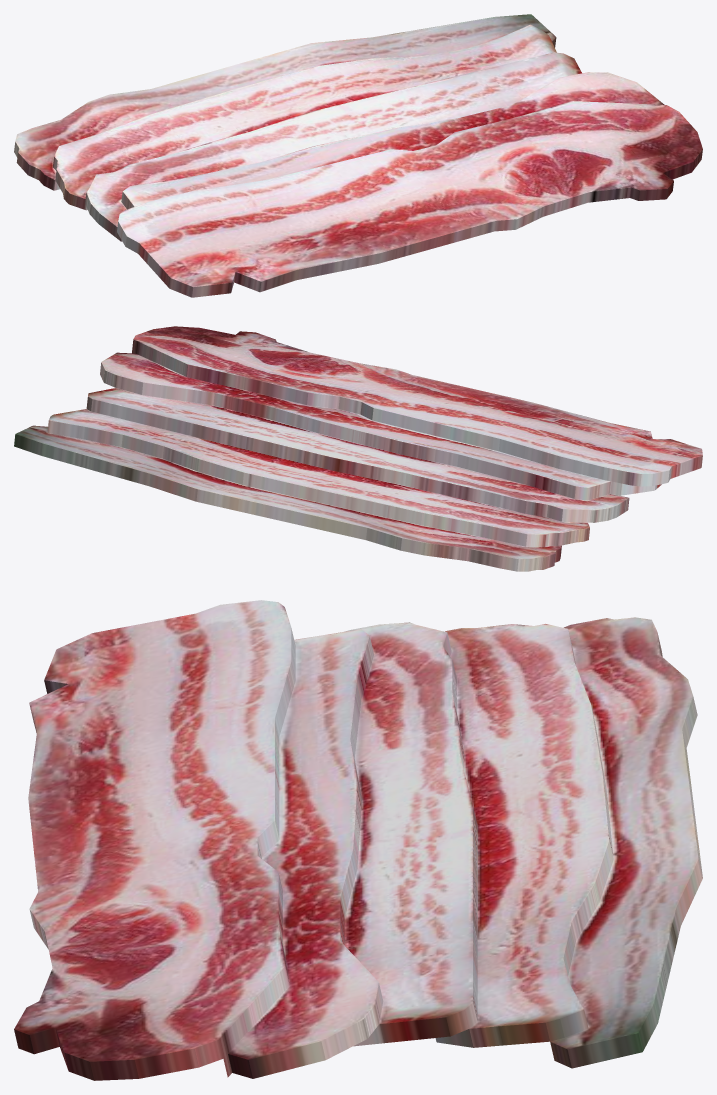
The model's file is bacon.dae.
The picture shows the model from 3 angles, top to bottom: view 1: azimuth 30°, elevation 25°; view 2: azimuth 150°, elevation 25°; view 3: azimuth 270°, elevation 25°; orthographic projection. The views are drawn at different scales.
Visible parts, largest first — view 1: Component_78 (×2); view 2: Component_78 (×2); view 3: Component_78 (×2).
Boxes of the visible parts, x1,y1,x2,y2 form: Component_78 (×2): (14, 14, 702, 297); Component_78 (×2): (14, 326, 702, 571); Component_78 (×2): (14, 600, 702, 1080).
Size of the model in its own units: 10.79 by 7.13 by 0.8226.
1 material, 1 textured.
